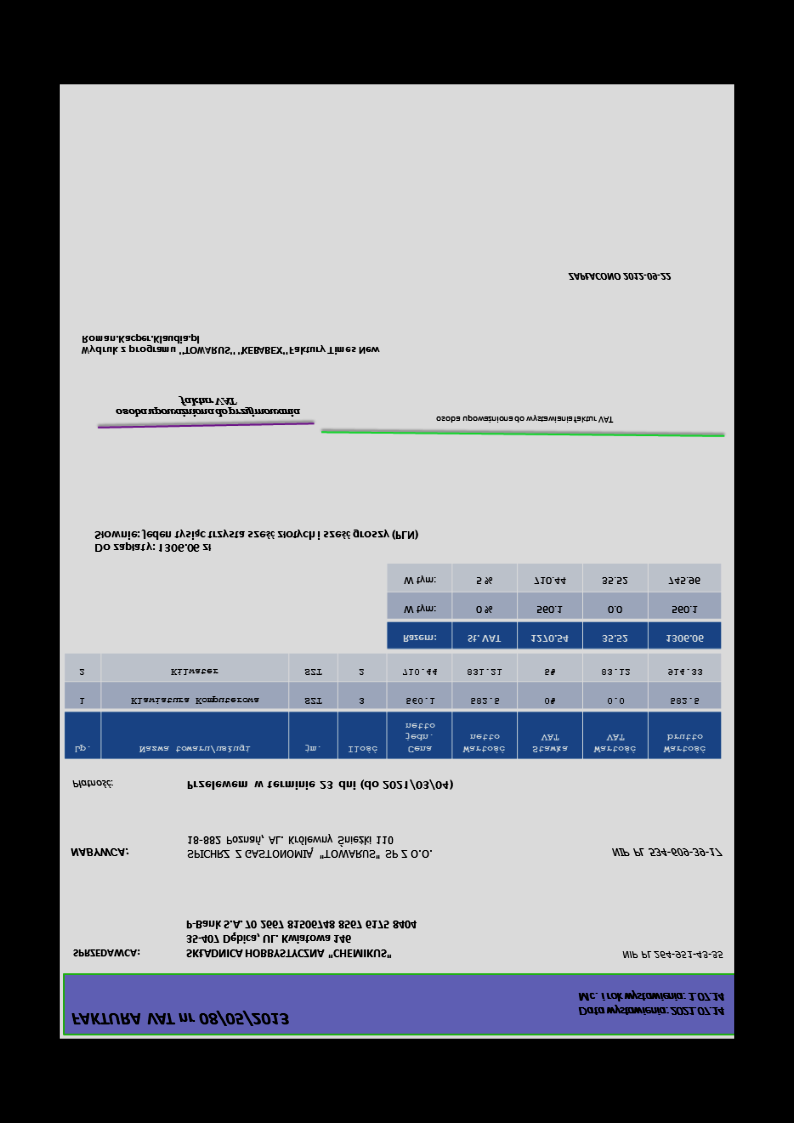Table: (62, 652, 722, 760), (386, 564, 723, 650)
TextBox: (184, 917, 419, 961), (93, 527, 420, 554), (79, 332, 381, 357), (184, 834, 435, 861), (69, 1008, 291, 1028), (576, 989, 726, 1018), (115, 396, 302, 419), (185, 778, 455, 792), (434, 412, 614, 425), (566, 269, 672, 284), (610, 845, 723, 859), (621, 949, 723, 961), (71, 946, 142, 960), (69, 845, 130, 859), (71, 778, 114, 791)
